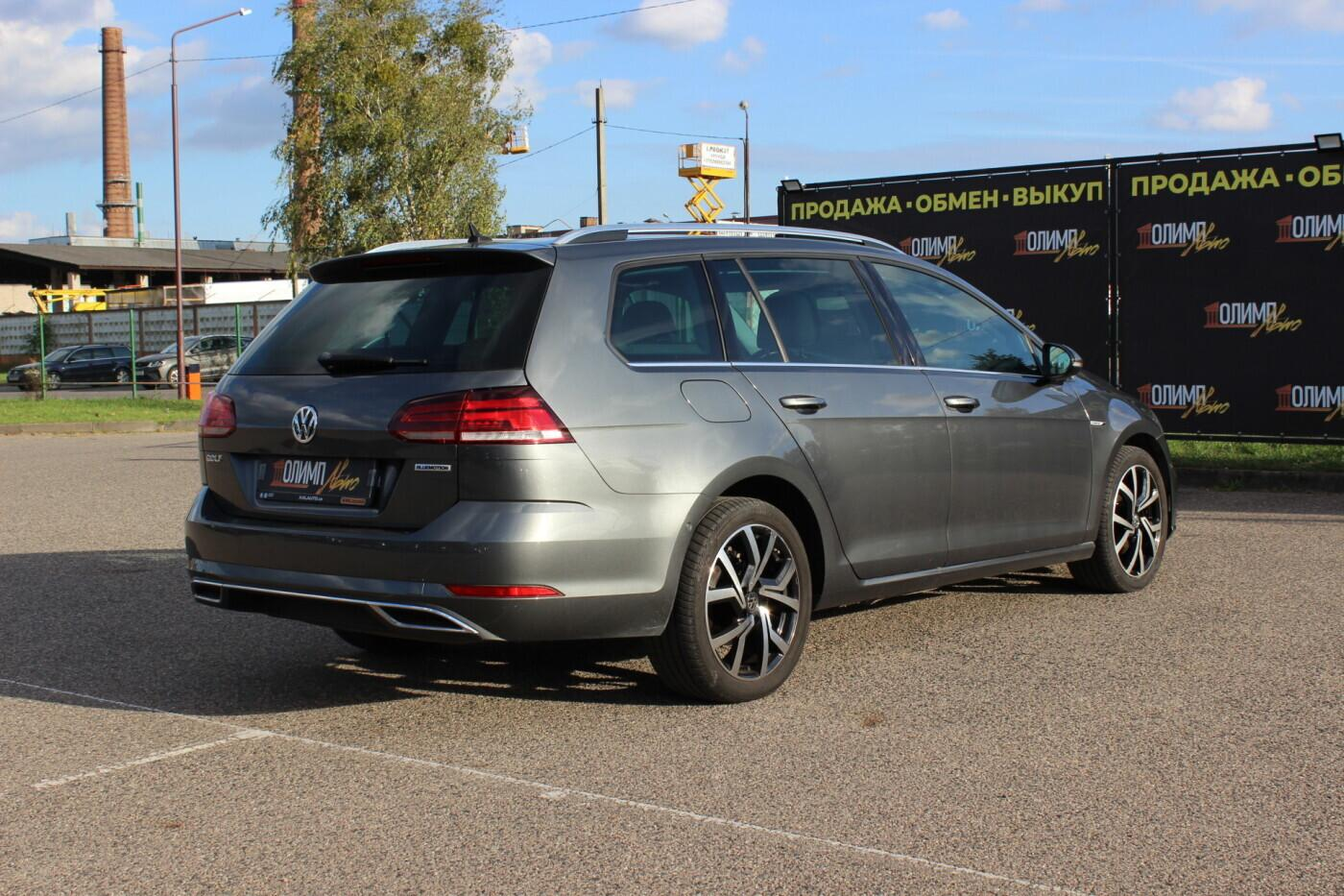Golf_2017-2021: (168, 226, 1183, 725)
